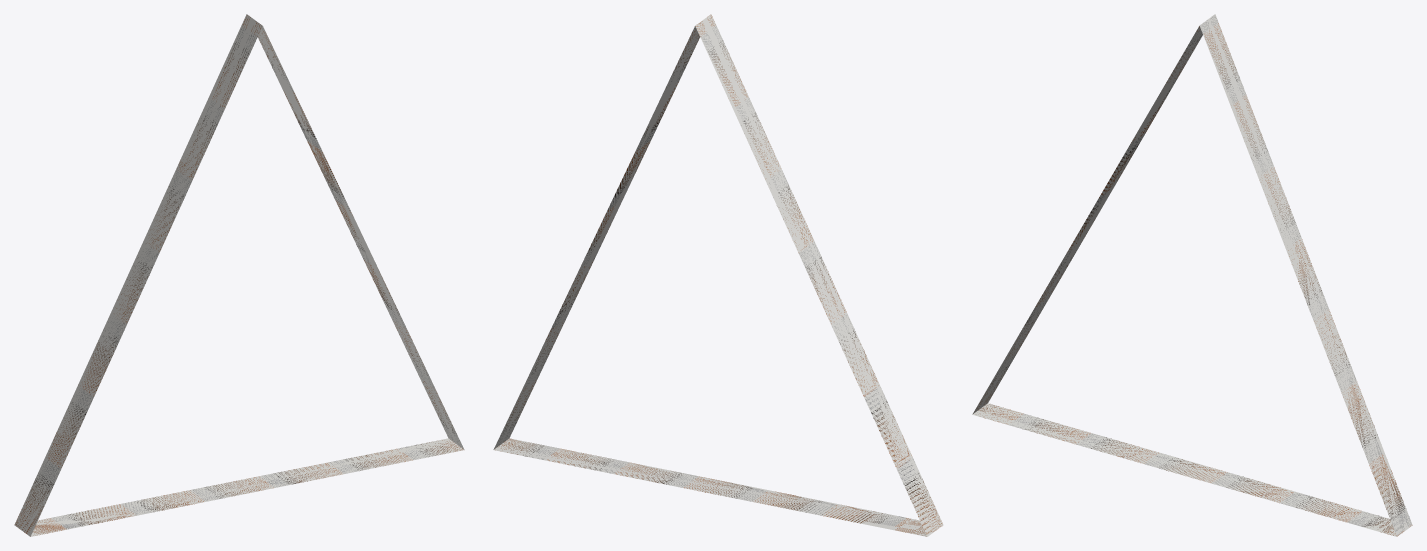
File: original-54.obj
The picture shows the model from 3 angles, left to right: view 1: azimuth 30°, elevation 25°; view 2: azimuth 150°, elevation 25°; view 3: azimuth 330°, elevation 25°; orthographic projection. The views are drawn at different scales.
Parts seen in each view (by area): view 1: 3dw.2c6493d31849c15a75f1efca97bee05a/Model/Sentry_Really_Big_Rem; view 2: 3dw.2c6493d31849c15a75f1efca97bee05a/Model/Sentry_Really_Big_Rem; view 3: 3dw.2c6493d31849c15a75f1efca97bee05a/Model/Sentry_Really_Big_Rem.
Boxes of the visible parts, <box> form: 3dw.2c6493d31849c15a75f1efca97bee05a/Model/Sentry_Really_Big_Rem: <box>14,14,464,536</box>; 3dw.2c6493d31849c15a75f1efca97bee05a/Model/Sentry_Really_Big_Rem: <box>493,14,943,536</box>; 3dw.2c6493d31849c15a75f1efca97bee05a/Model/Sentry_Really_Big_Rem: <box>972,14,1412,536</box>.
Bounding box in the file's own units: 0.1596 × 0.1664 × 0.0103.
